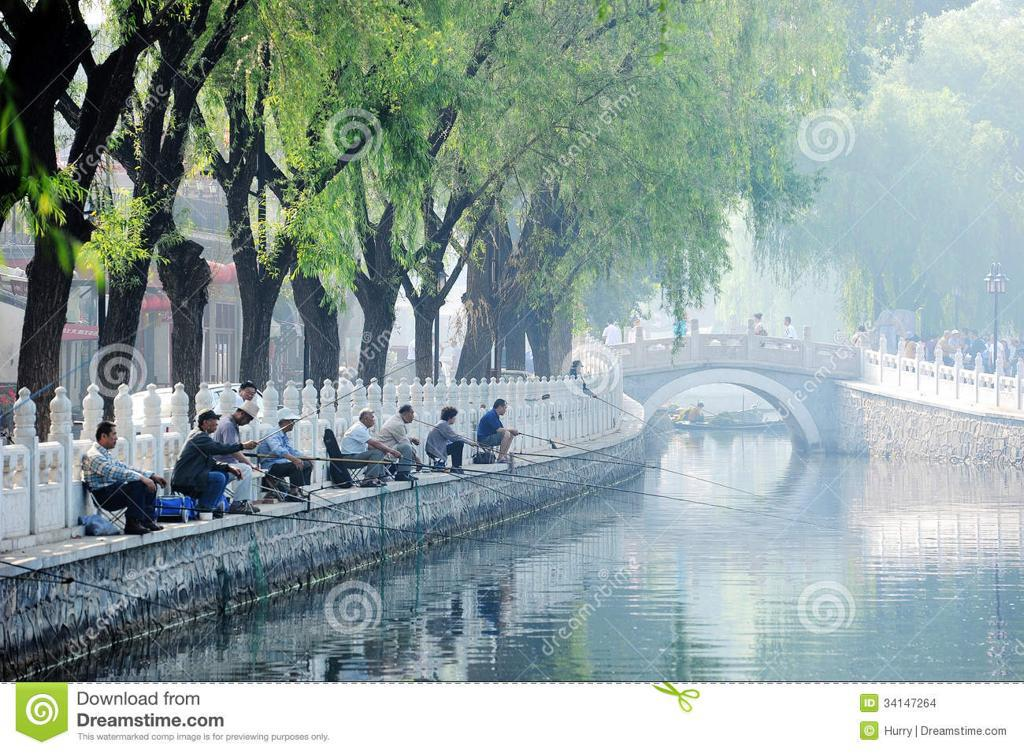face: (103, 430, 119, 449), (240, 414, 255, 427), (243, 387, 255, 401), (209, 417, 219, 433), (285, 419, 295, 431), (368, 415, 376, 427), (408, 410, 415, 423), (501, 406, 507, 415), (969, 332, 976, 339), (451, 415, 456, 424), (954, 333, 960, 339), (755, 318, 760, 324), (635, 320, 640, 326), (785, 320, 790, 325)
